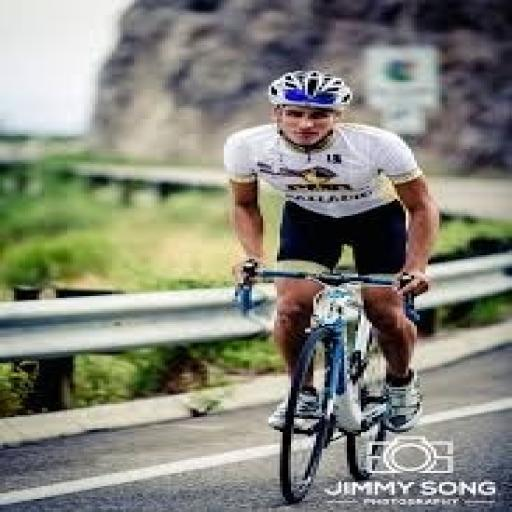cycling: (221, 67, 445, 436)
